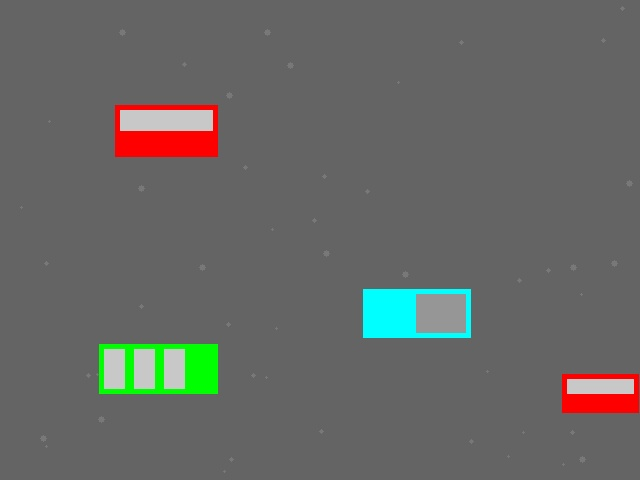bus: (99, 344, 217, 393)
car: (115, 105, 217, 156), (562, 374, 638, 412)
truck: (363, 289, 470, 337)
